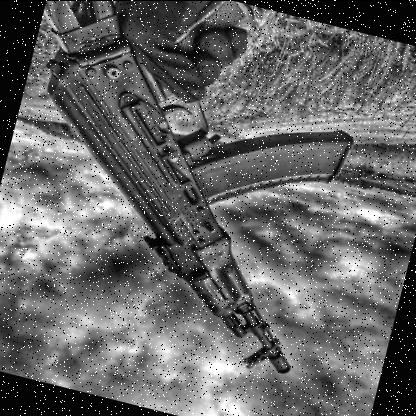rifle: (0, 0, 393, 394)
